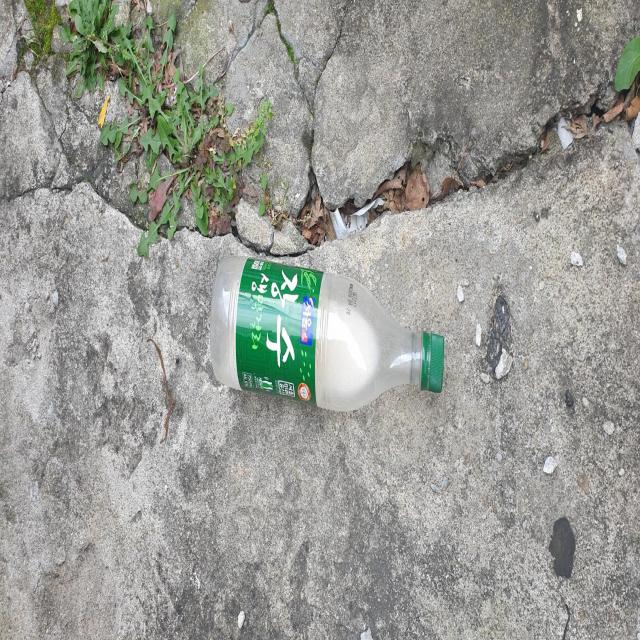plastic: (210, 255, 444, 410)
